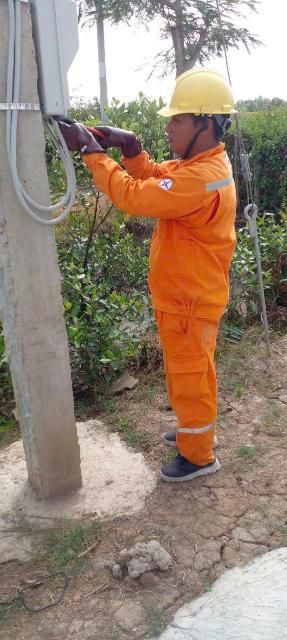gloves: (49, 103, 116, 155), (87, 120, 145, 159)
helmet: (153, 48, 256, 137)
shoes: (156, 443, 233, 487), (157, 423, 225, 451)
